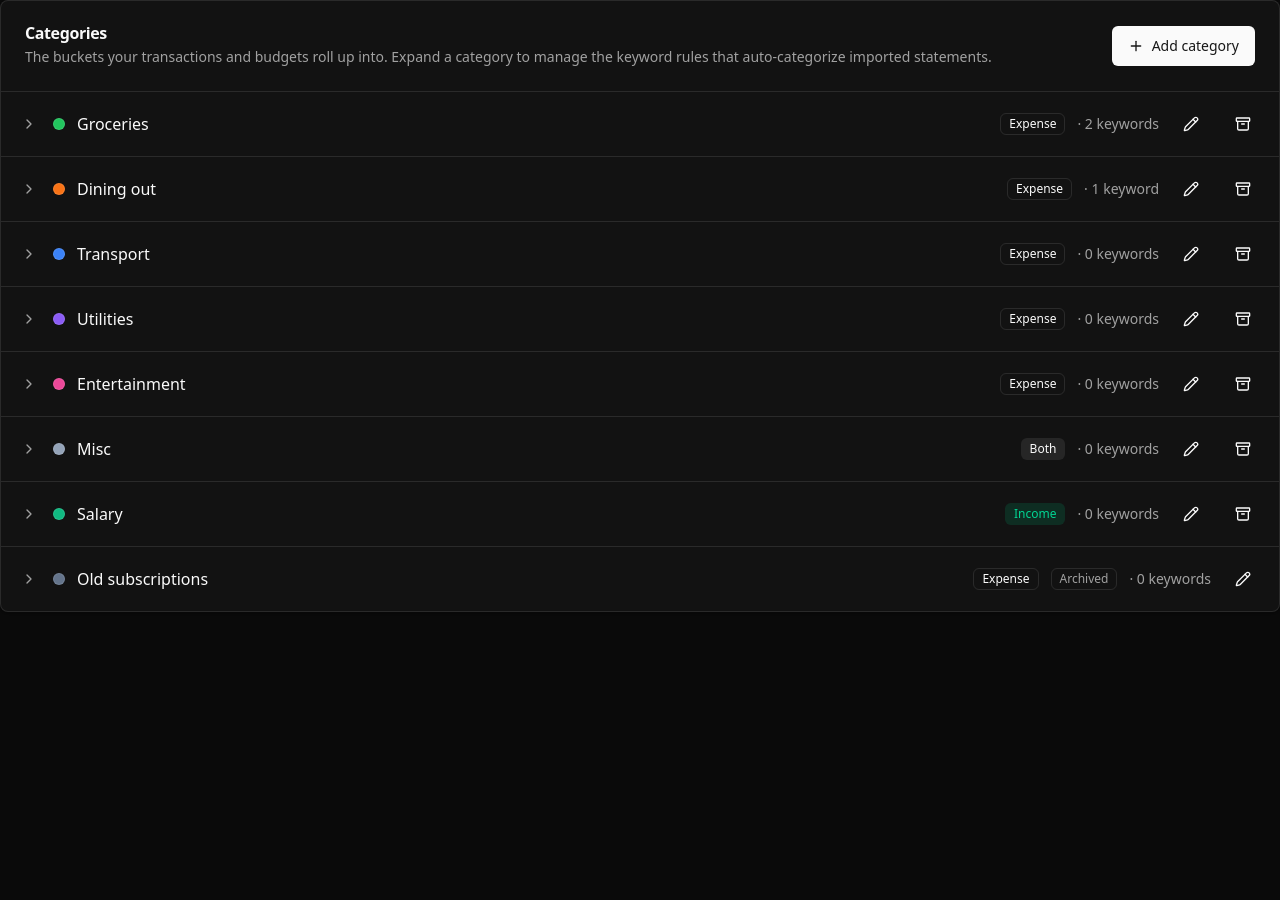
it: CategoriesManager › surfaces the 409 "keyword exists" detail verbatim via toast
Click the button named "Expand Groceries keywords": coordinates (29, 124) [17,112,41,136]
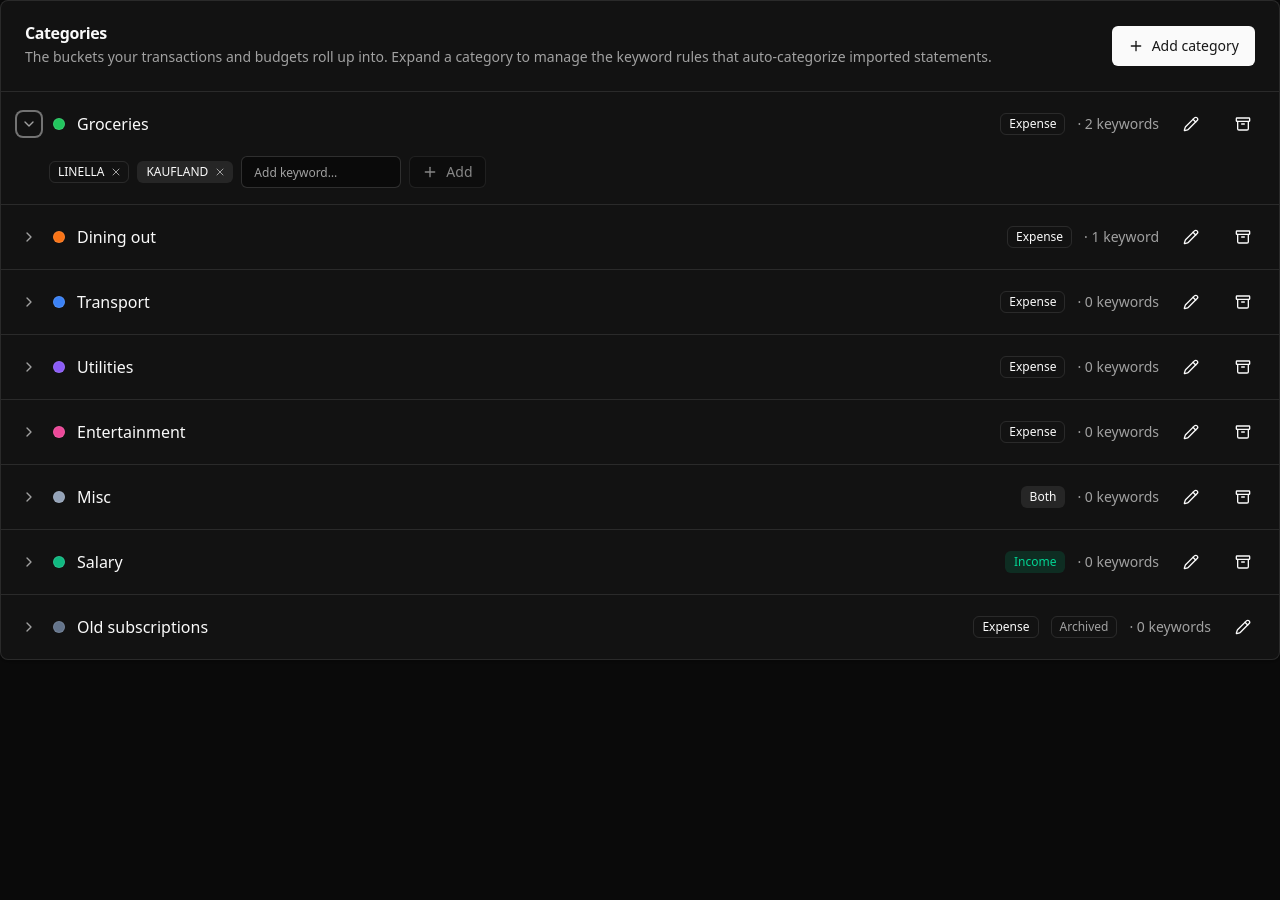
In the field with placeholder "Add keyword…": coordinates (321, 172) [241,156,401,188], type "LINELLA"
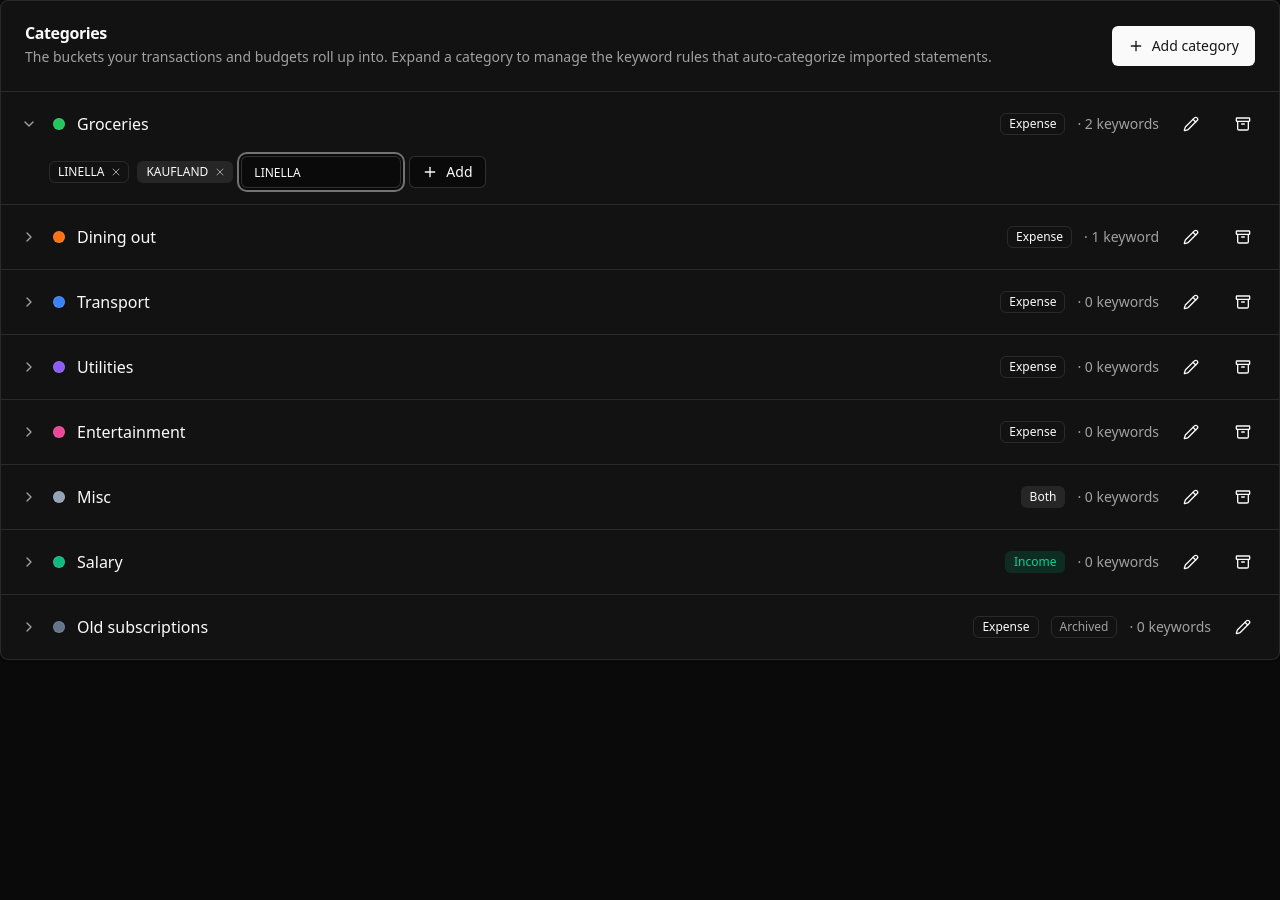
Click the button "Add": coordinates (447, 172) [409,156,486,188]
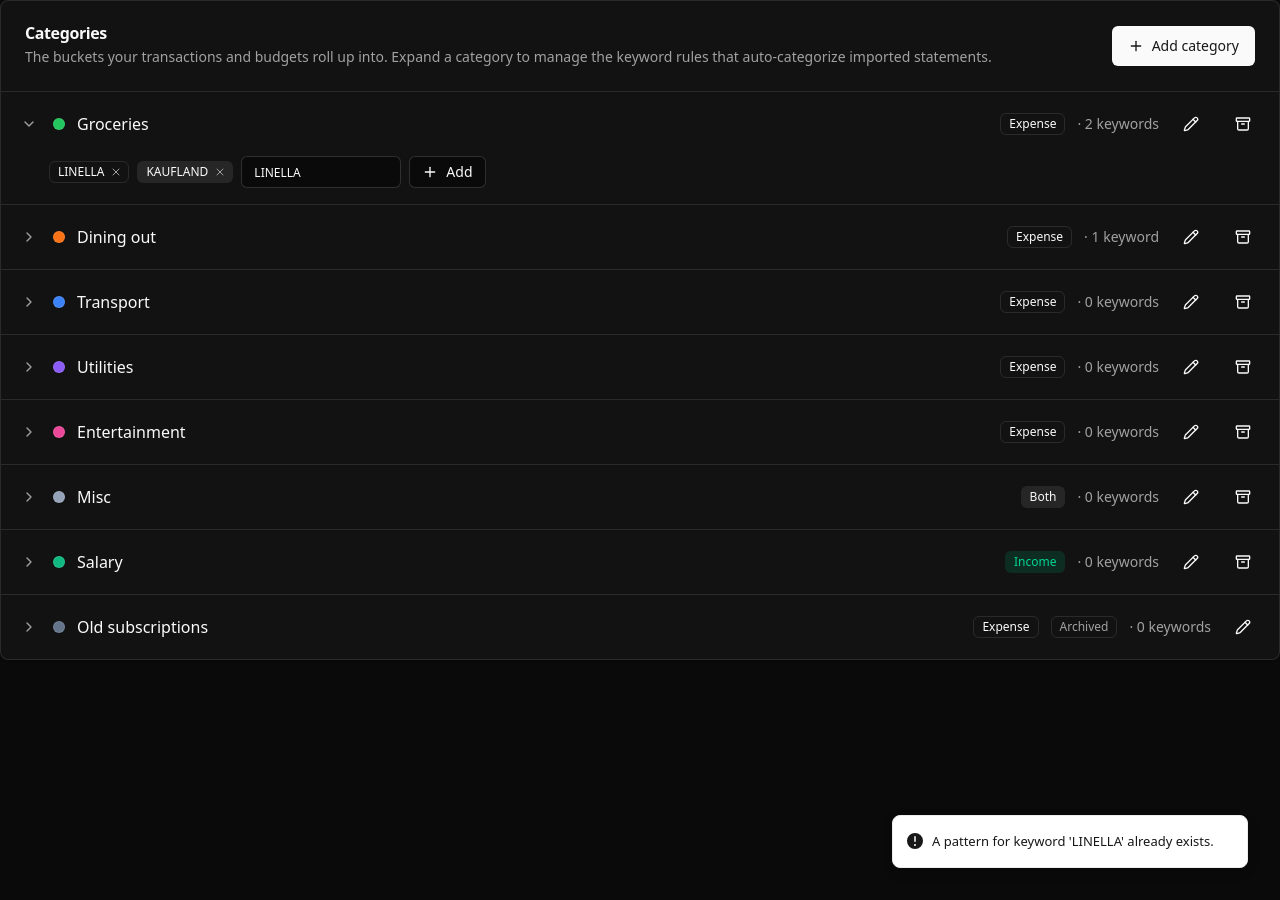
Check: the text "A pattern for keyword 'LINELLA' already exists." is shown, box [932,832,1214,851]
